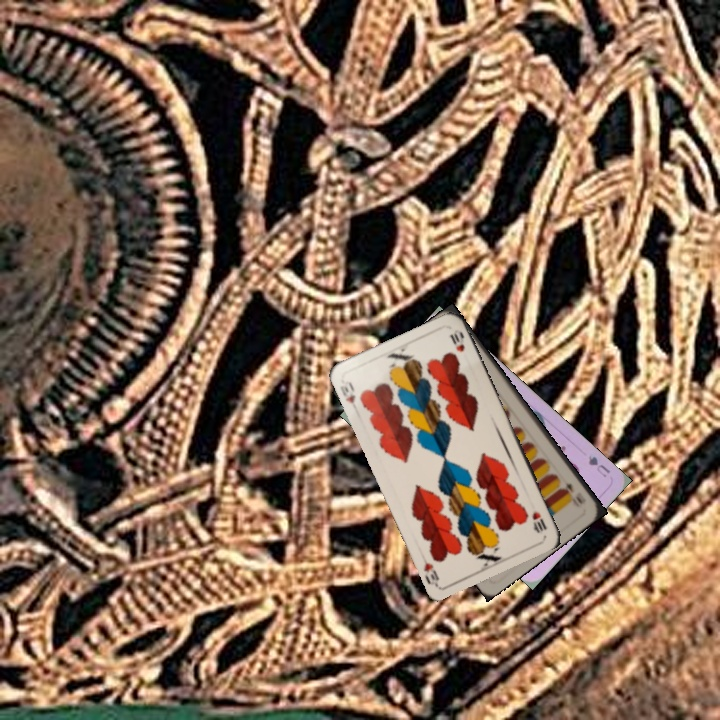E10: (560, 479, 588, 507)
GU: (584, 451, 613, 480)
H10: (336, 378, 358, 406), (528, 507, 549, 535)
